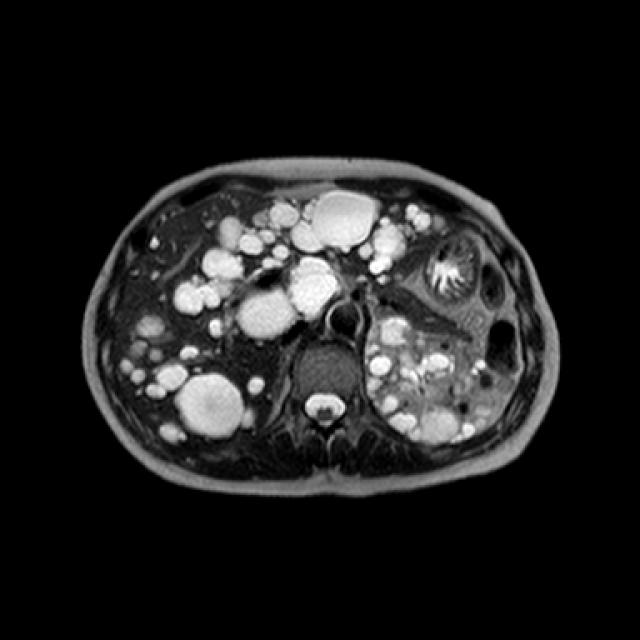sol: (367, 308, 511, 446)
